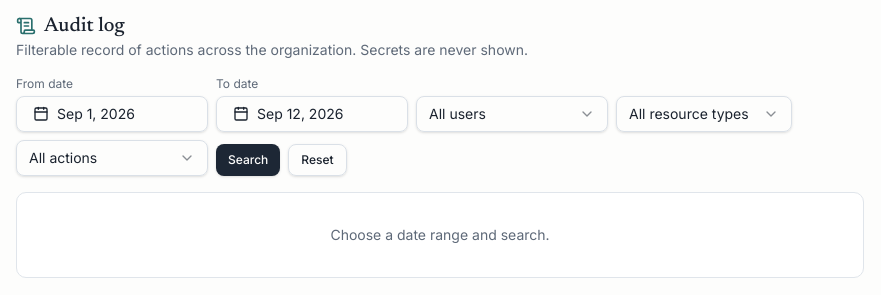
Test: AdminAudit › shows a 403 alert when the API rejects despite a client-side permission gate
Click the button "Search": x=248, y=160 [216,144,280,176]
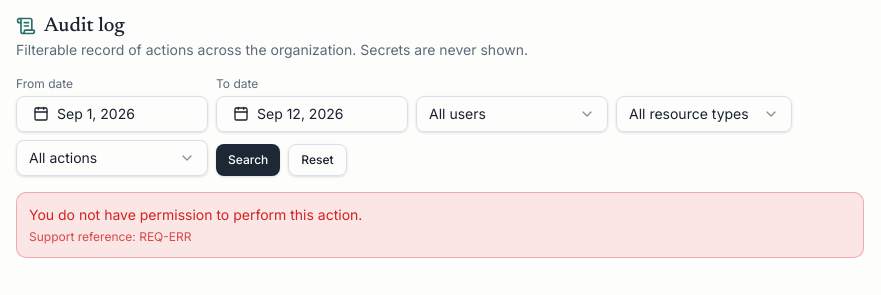
Now the message shows "You do not have permission to perform this action.", box [29,206,362,223]
